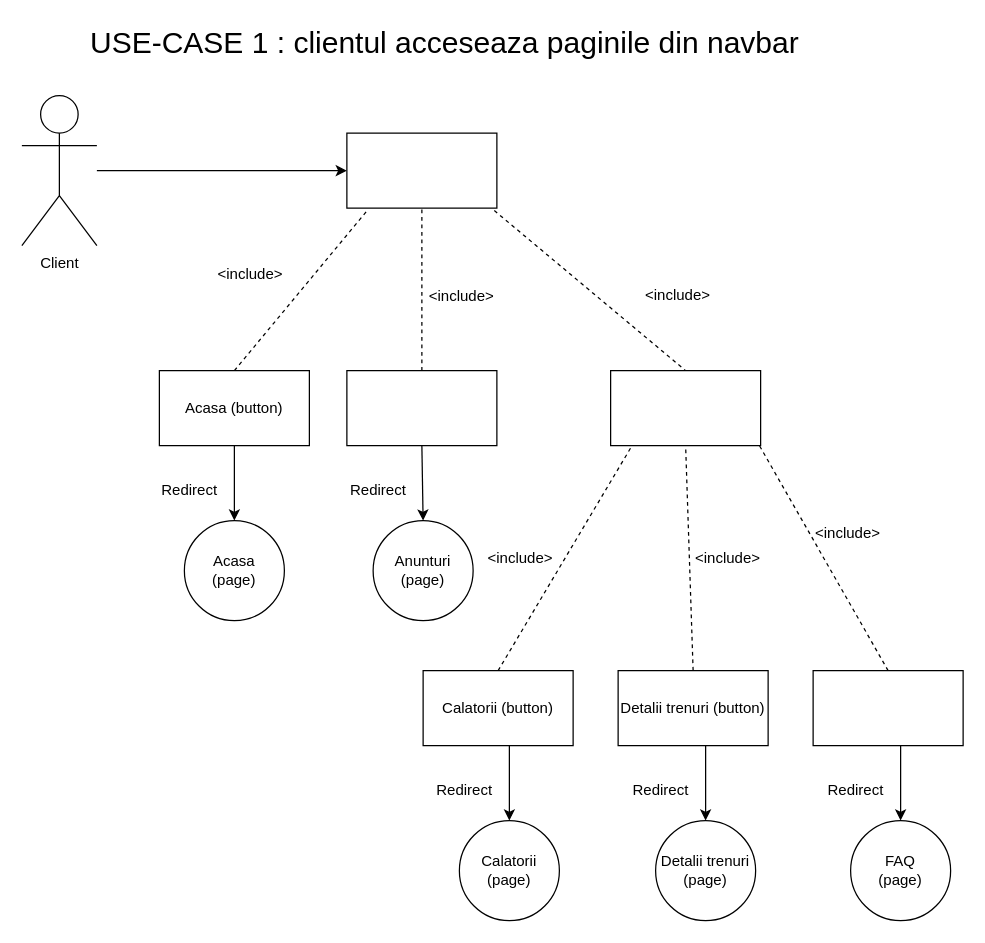
This 985x943 diagram has some shape labels left out. The shapes that lost their labels are listed below. From the top down, each one's centre as x and y in pixels, then its label:
At (421,170): "SVP NavBar".
At (421,407): "Anunturi (button)".
At (685,407): "Meniu (dropdown)".
At (887,707): "FAQ (button)".
